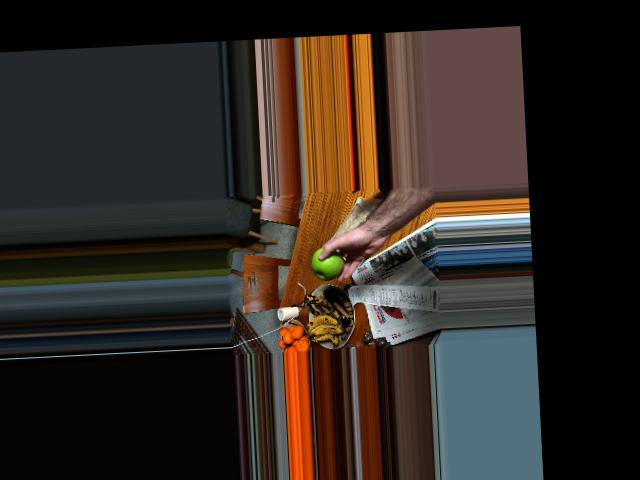apple: (307, 244, 349, 281)
